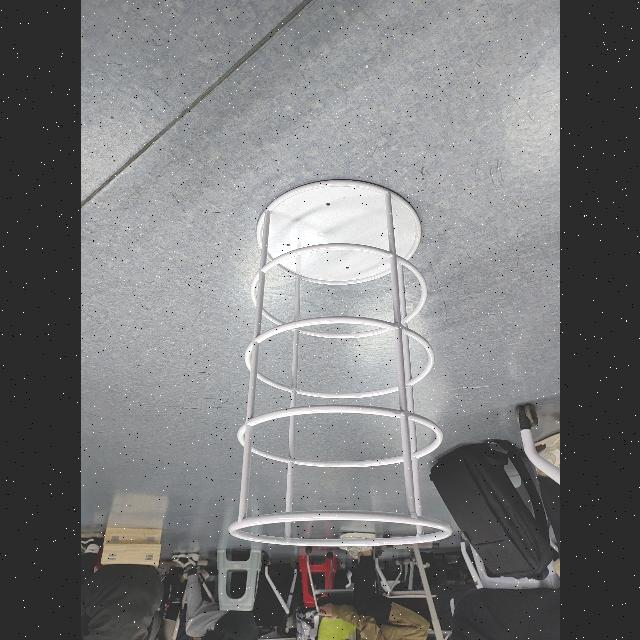S: (225, 177, 455, 558)
